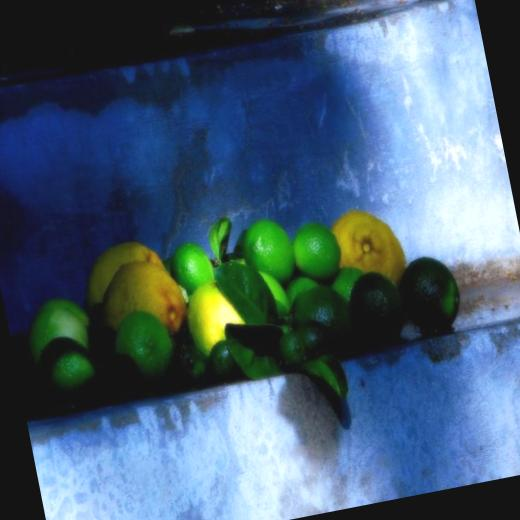Grape: (103, 258, 188, 343), (330, 204, 406, 291), (400, 248, 471, 340), (83, 236, 166, 298), (233, 211, 301, 285), (183, 286, 239, 362), (344, 266, 402, 336), (286, 214, 342, 286), (116, 307, 172, 368), (30, 301, 83, 355), (258, 262, 298, 330), (167, 237, 211, 298), (300, 281, 344, 329), (330, 266, 366, 304), (280, 272, 318, 306), (45, 352, 88, 382)
